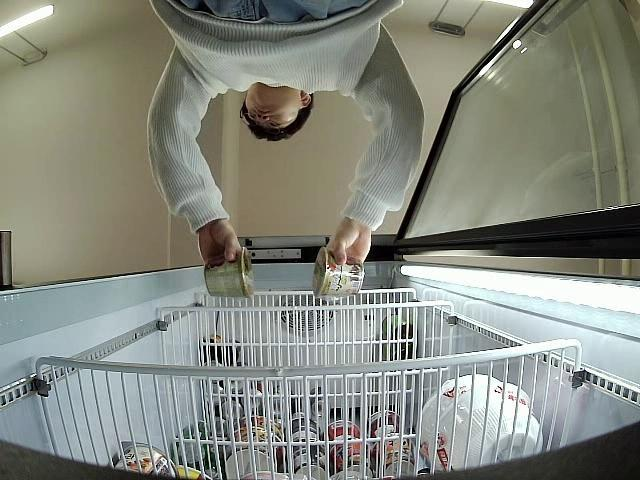04_chapagetti_S: (202, 245, 255, 298), (312, 247, 363, 296)
